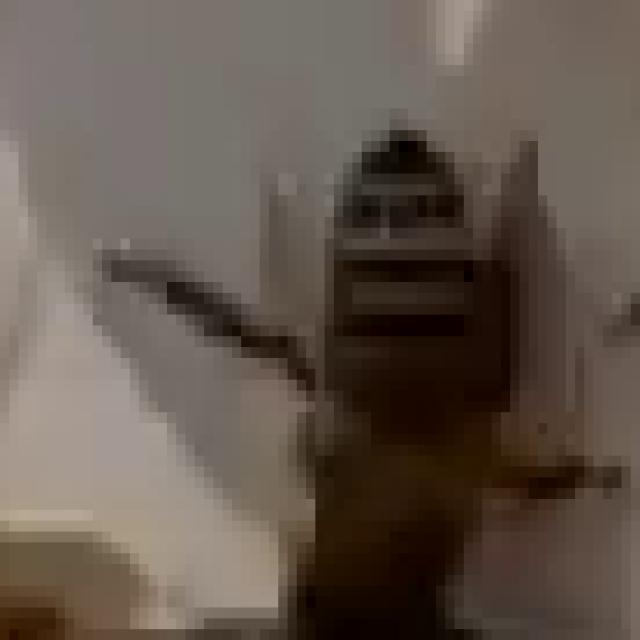honeybee: (212, 78, 572, 640)
